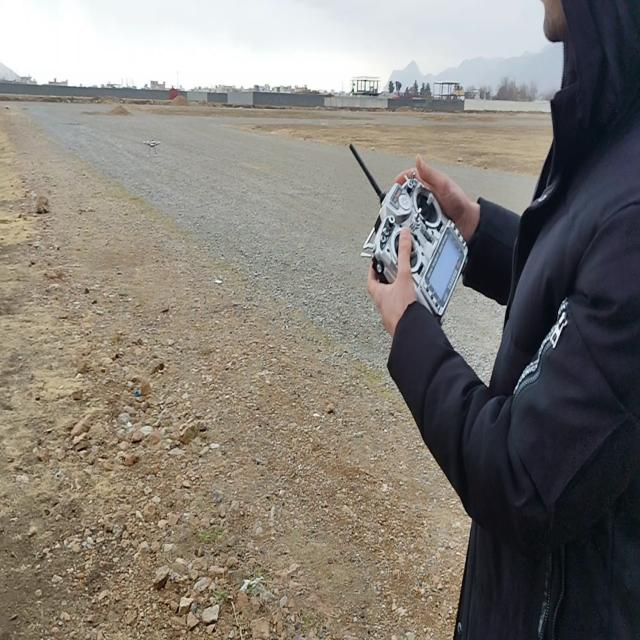drone: (142, 136, 162, 158)
